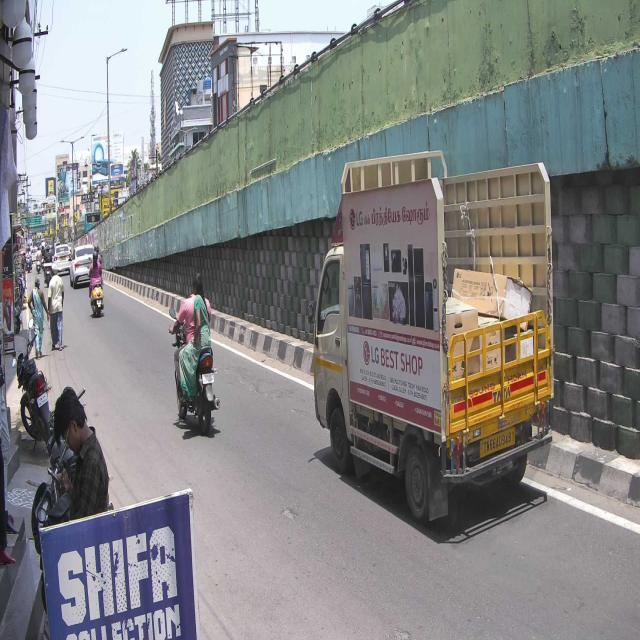single_rider: (168, 271, 220, 434)
